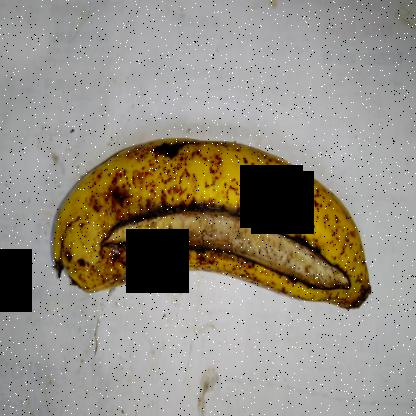ripe: (61, 130, 367, 348)
rotten: (87, 188, 355, 318)
